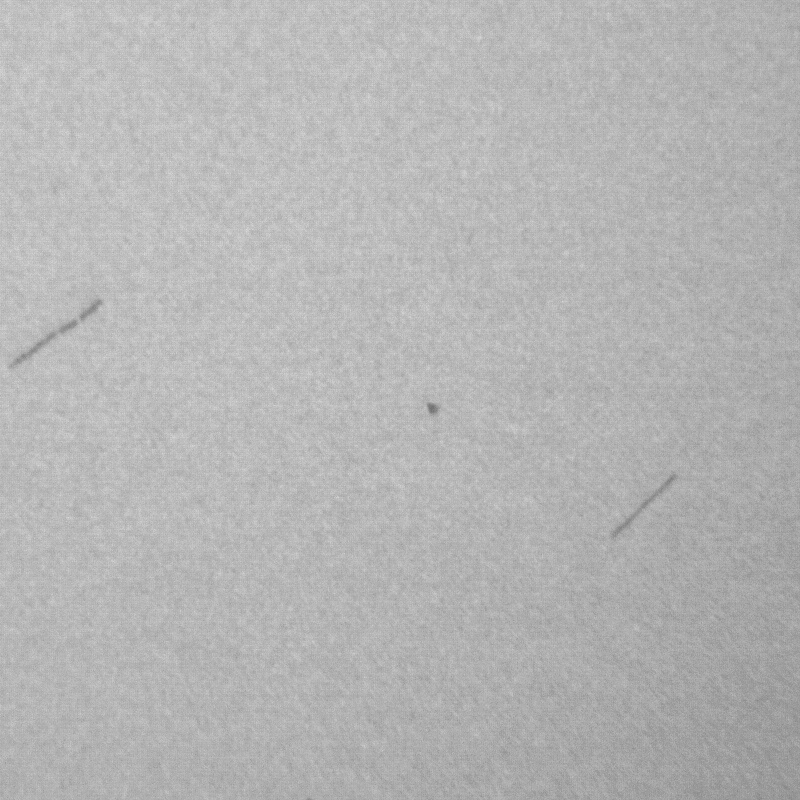defect: (2, 295, 102, 379), (603, 472, 675, 545), (426, 404, 445, 421)
